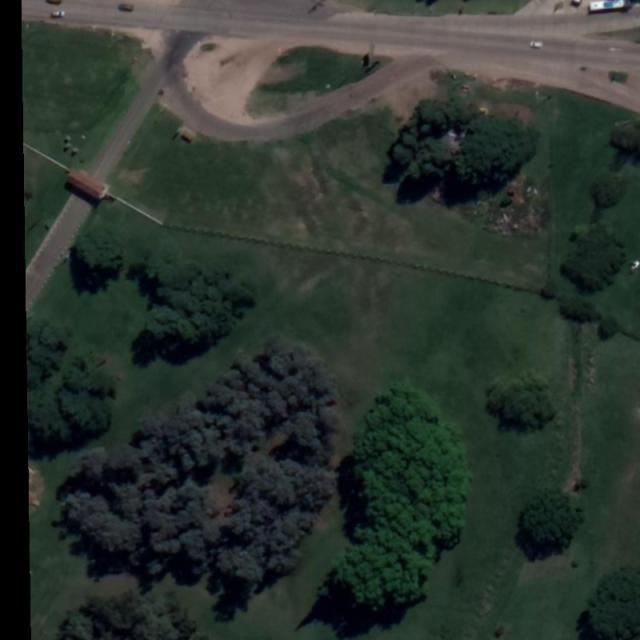vehicle: (590, 1, 631, 12), (119, 3, 134, 12), (50, 11, 66, 19), (530, 41, 544, 47), (46, 1, 62, 6), (570, 1, 583, 6)
